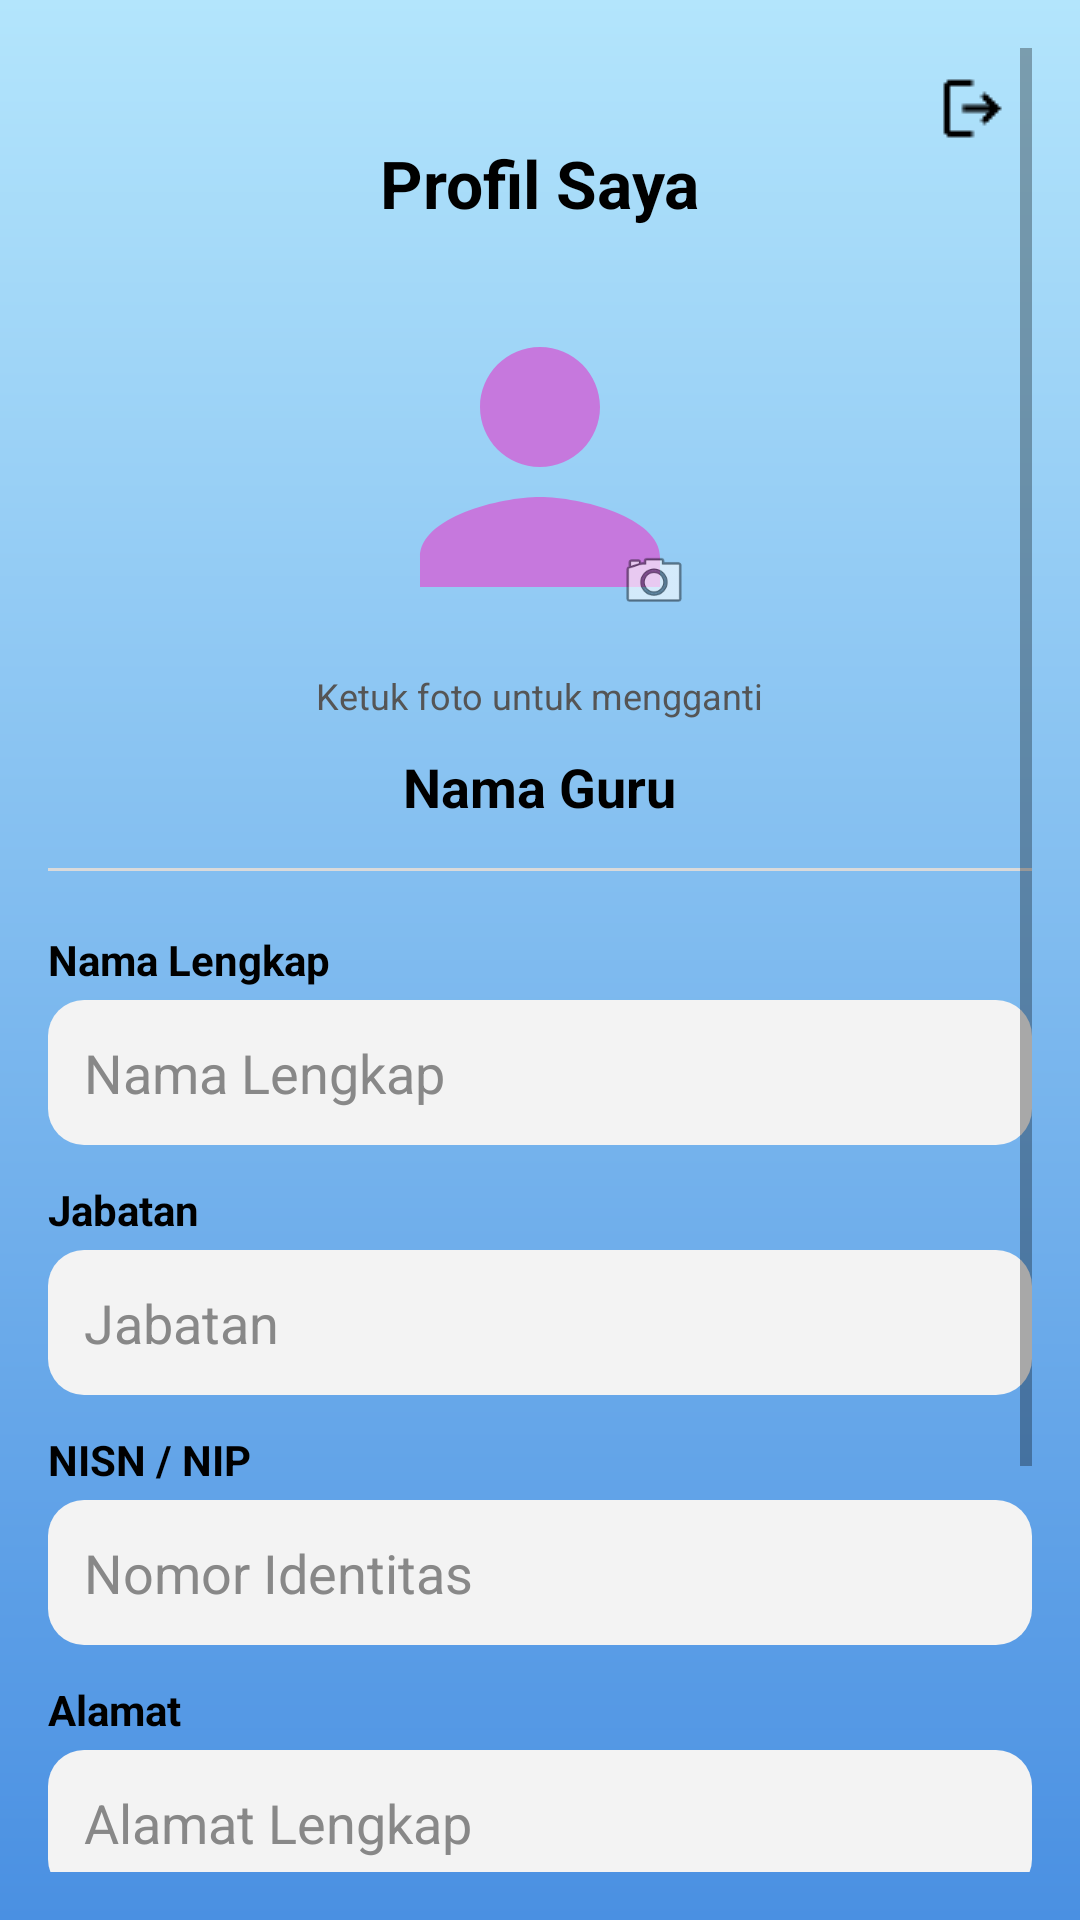

Point at icon controls on the screen. Image size 1080w x 1920h, points as point (x, y).
camera: point (641, 564)
